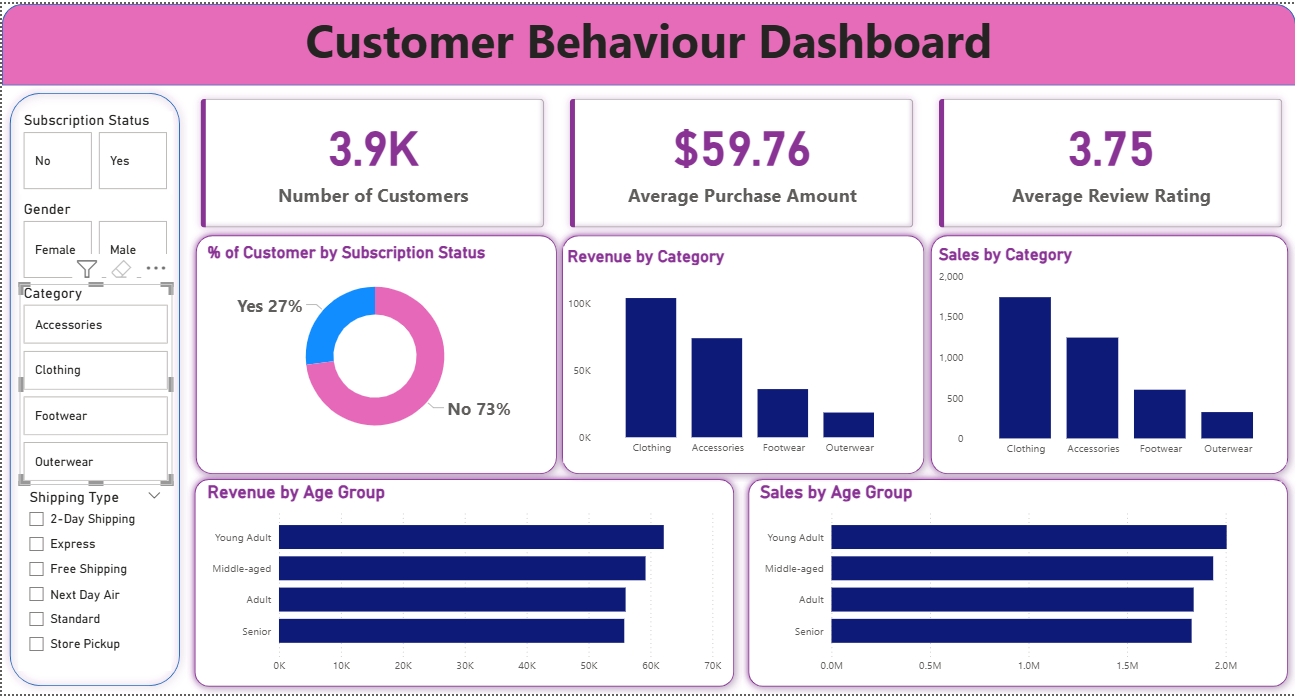

What the dashboard file says about the page in this screenshot:
{"tool":"powerbi","page":{"name":"Page 1","canvas":[1500,800],"ordinal":0},"visuals":[{"type":"cardVisual","fields":{"Data":["customer_behaviour.Number of Customers","customer_behaviour.Average Purchase Amount","customer_behaviour.Average Review Rating"]},"box":[213.9,94.4,1286.1,181.9],"z":0},{"type":"shape","box":[0,0,1500,94.7],"z":1000},{"type":"textbox","box":[0,0,1500,94.7],"z":2000},{"type":"shape","box":[215.3,259.7,436.1,294.4],"z":3000},{"type":"donutChart","title":"% of Customer by Subscription Status","fields":{"Category":["customer_behaviour.subscription_status"],"Y":["CountNonNull(customer_behaviour.customer_id)"]},"box":[233.3,276.4,398.6,241.7],"z":4000},{"type":"shape","box":[0,94.4,215.3,705.6],"z":7000},{"type":"advancedSlicerVisual","fields":{"Values":["customer_behaviour.subscription_status"]},"box":[20,124,177.3,96],"z":8000},{"type":"advancedSlicerVisual","fields":{"Values":["customer_behaviour.gender"]},"box":[20,228,177.3,96],"z":9000},{"type":"advancedSlicerVisual","fields":{"Values":["customer_behaviour.category"]},"box":[20,324,177.3,233.3],"z":10000},{"type":"slicer","fields":{"Values":["customer_behaviour.shipping_type"]},"box":[19.4,556.9,177.8,216.7],"z":11000},{"type":"shape","box":[213.9,541.7,643.1,258.3],"z":12000},{"type":"clusteredBarChart","title":"Revenue by Age Group","fields":{"Y":["Sum(customer_behaviour.purchase_amount)"],"Category":["customer_behaviour.age_group"]},"box":[233.3,554.2,605.6,231.9],"z":13000},{"type":"shape","box":[856.9,541.7,643.1,258.3],"z":14000},{"type":"clusteredBarChart","title":"Sales by Age Group","fields":{"Category":["customer_behaviour.age_group"],"Y":["Sum(customer_behaviour.customer_id)"]},"box":[873.6,554.2,609.7,231.9],"z":15000},{"type":"shape","box":[640.3,259.7,437.5,294.4],"z":16000},{"type":"shape","box":[1068.1,259.7,431.9,294.4],"z":17000},{"type":"clusteredColumnChart","title":"Revenue by Category","fields":{"Category":["customer_behaviour.category"],"Y":["Sum(customer_behaviour.purchase_amount)"]},"box":[651.4,280.6,398.6,251.4],"z":17500},{"type":"clusteredColumnChart","title":"Sales by Category","fields":{"Category":["customer_behaviour.category"],"Y":["CountNonNull(customer_behaviour.customer_id)"]},"box":[1080.6,279.2,408.3,254.2],"z":18000}]}

Visuals, with their boxes in screenshot pixels (x1, y1, x2, y2), scaled from the page's 1500x800 canvas onto the 1295x696 screenshot:
cardVisual - customer_behaviour.Number of Customers x customer_behaviour.Average Purchase Amount: 185/82/1294/240
shape: 0/0/1294/82
textbox: 0/0/1294/82
shape: 186/226/562/482
"% of Customer by Subscription Status" donutChart: 201/240/546/451
shape: 0/82/186/695
advancedSlicerVisual - customer_behaviour.subscription_status: 17/108/170/191
advancedSlicerVisual - customer_behaviour.gender: 17/198/170/282
advancedSlicerVisual - customer_behaviour.category: 17/282/170/485
slicer - customer_behaviour.shipping_type: 17/485/170/673
shape: 185/471/740/695
"Revenue by Age Group" clusteredBarChart: 201/482/724/684
shape: 740/471/1294/695
"Sales by Age Group" clusteredBarChart: 754/482/1281/684
shape: 553/226/931/482
shape: 922/226/1294/482
"Revenue by Category" clusteredColumnChart: 562/244/906/463
"Sales by Category" clusteredColumnChart: 933/243/1285/464
